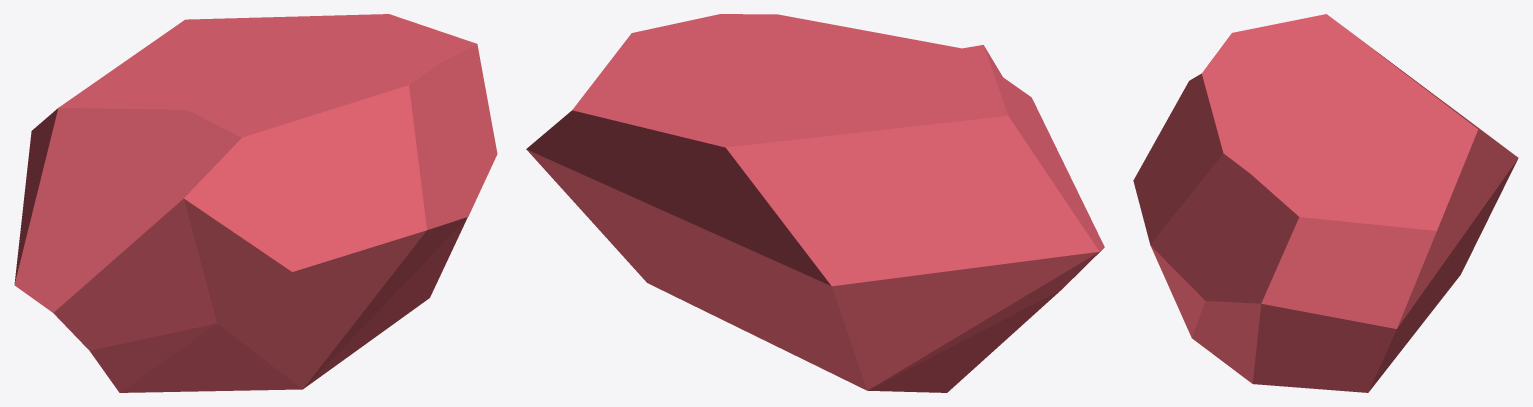
The model's file is decoration-stone-oval.fbx.
3 renders of one model, left to right at view 1: azimuth 30°, elevation 25°; view 2: azimuth 150°, elevation 25°; view 3: azimuth 270°, elevation 25°, orthographic. The views are drawn at different scales.
Visible parts, largest first — view 1: decoration-stone-oval; view 2: decoration-stone-oval; view 3: decoration-stone-oval.
Boxes of the visible parts, bbox=[...] form: decoration-stone-oval: bbox=[14, 14, 497, 392]; decoration-stone-oval: bbox=[526, 14, 1104, 392]; decoration-stone-oval: bbox=[1133, 14, 1518, 392].
Bounding box in the file's own units: 1.04 × 0.5956 × 0.7125.
